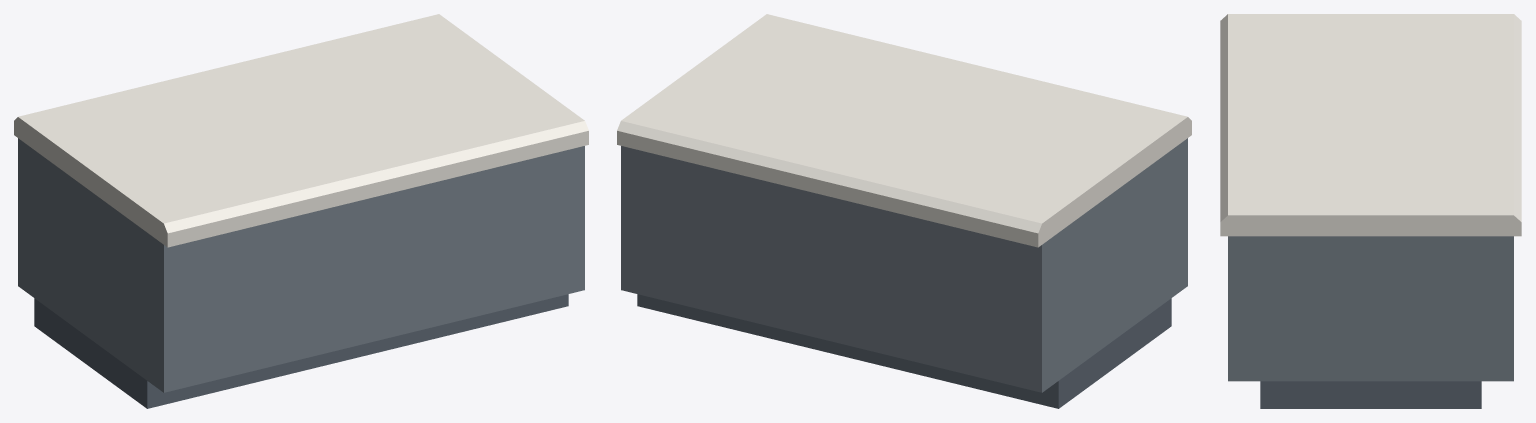
Rendered from counterbase.glb.
3 renders of one model, left to right at view 1: azimuth 30°, elevation 25°; view 2: azimuth 150°, elevation 25°; view 3: azimuth 270°, elevation 25°, orthographic. The views are drawn at different scales.
Visible parts, largest first — view 1: cabinet, worktop, kick; view 2: cabinet, worktop, kick; view 3: worktop, cabinet, kick.
Boxes of the visible parts, box(x1,y1,x2,y2) form: cabinet: box(18, 138, 584, 392); worktop: box(14, 14, 588, 247); kick: box(34, 294, 568, 408); cabinet: box(621, 138, 1187, 392); worktop: box(617, 14, 1191, 247); kick: box(637, 294, 1171, 408); worktop: box(1220, 14, 1521, 236); cabinet: box(1228, 236, 1513, 381); kick: box(1260, 381, 1481, 408).
Size of the model in its own units: 2.5 by 1.12 by 1.58.
